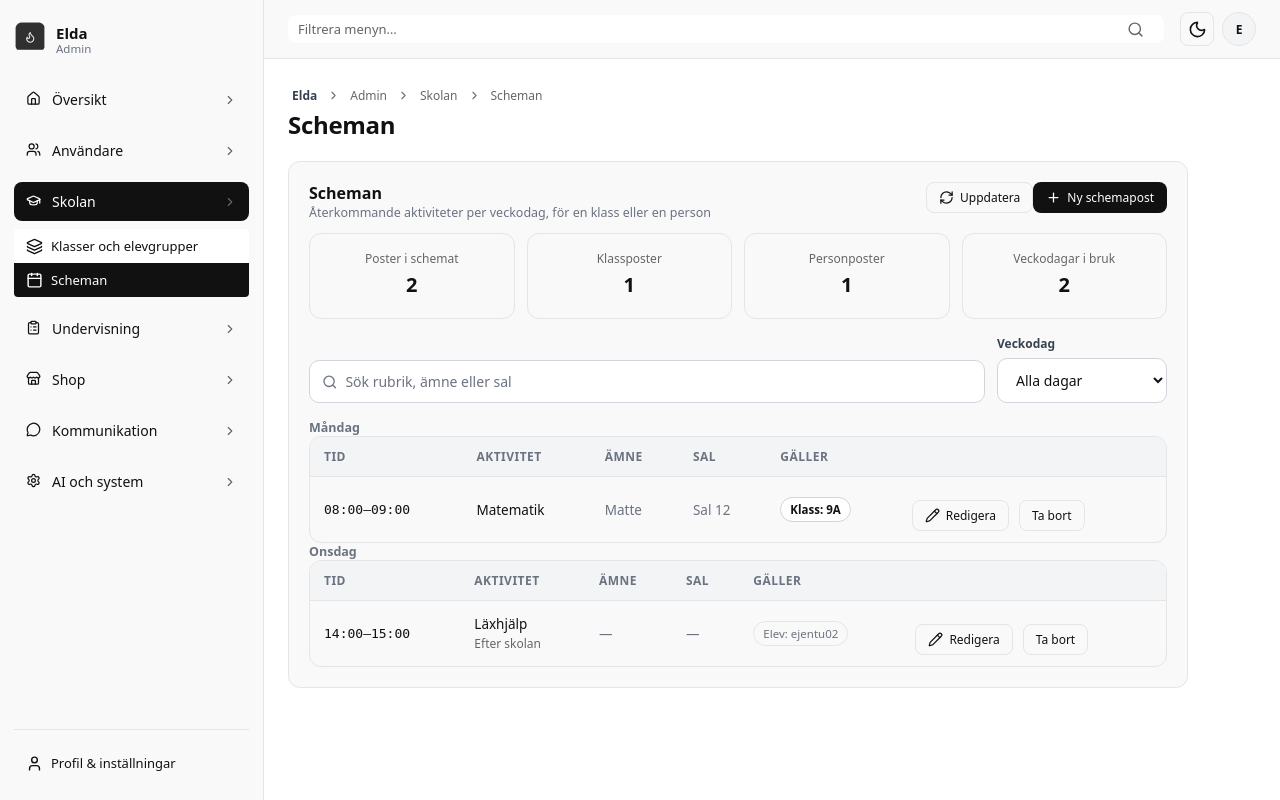
Test case: scheman › visar serverns fel om skapandet misslyckas
Expected: the text "Matematik" is shown, [462, 476, 591, 542]
Click the button "Ny schemapost" at x=1100, y=198, box [1033, 182, 1167, 213]
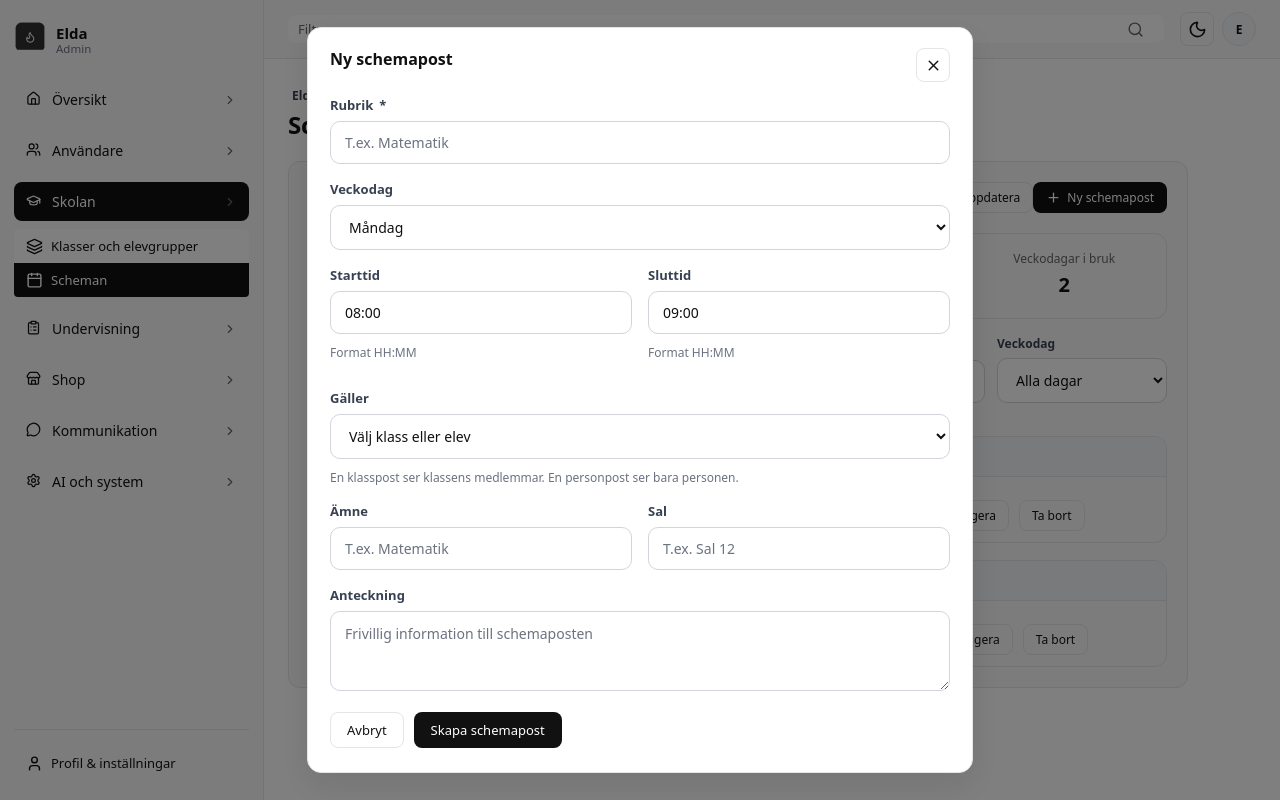
Type "Engelska" into the field labelled "Rubrik *" at x=640, y=142, box [330, 121, 950, 164]
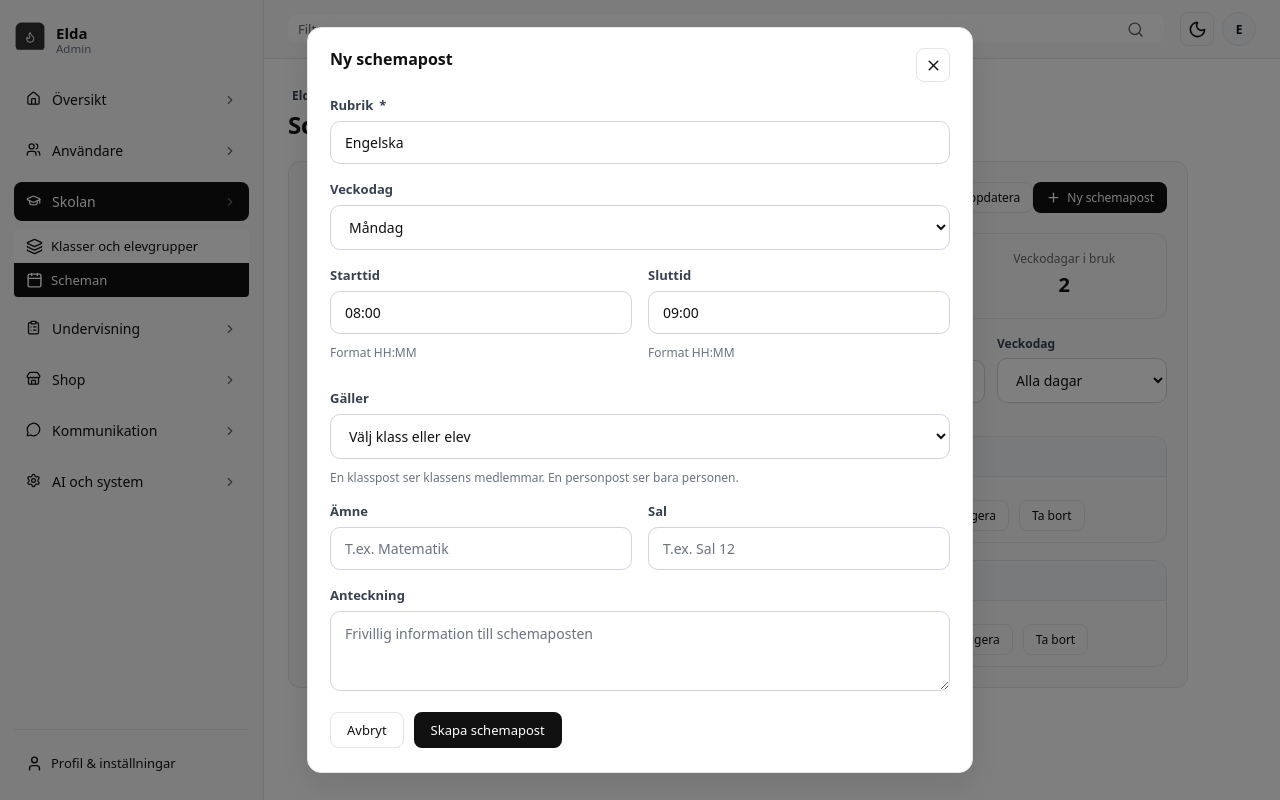
Select "Klass: 9A" in the dropdown labelled "Gäller" at x=640, y=436, box [330, 414, 950, 459]
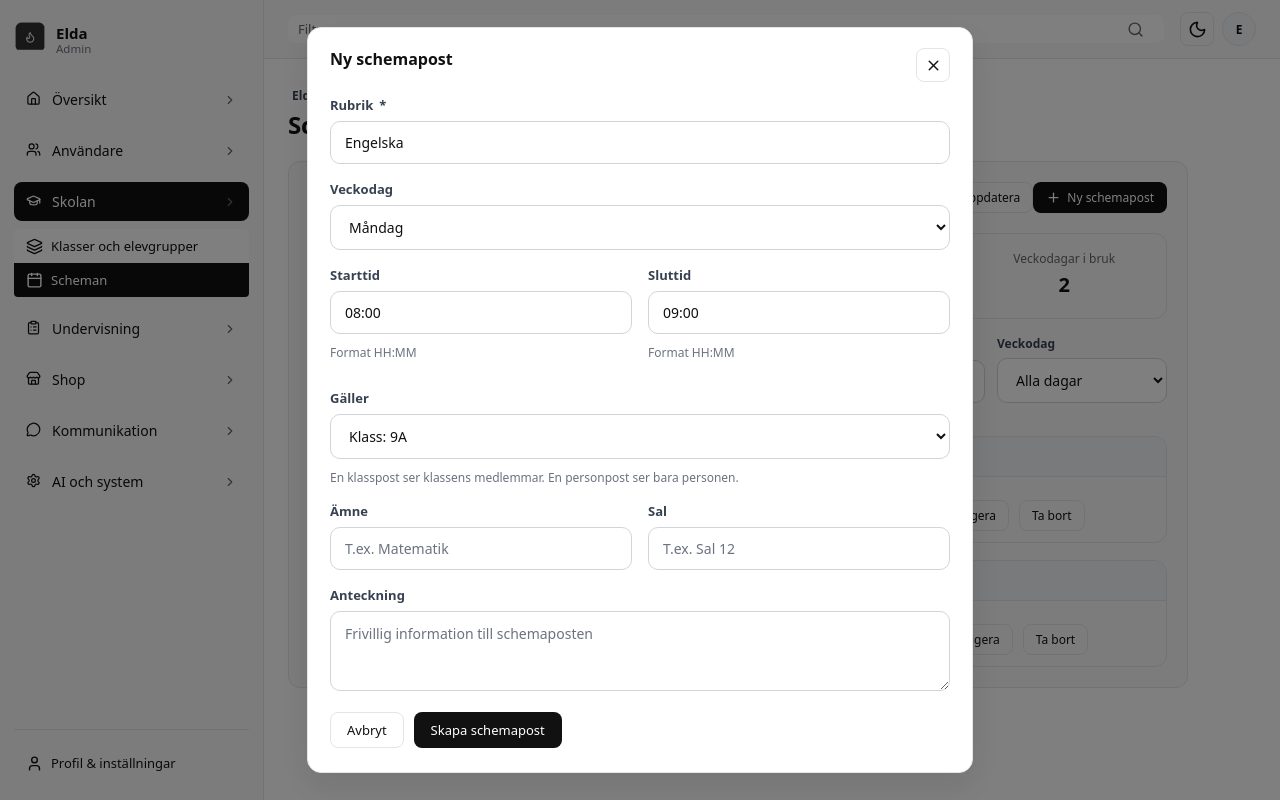
Click the button "Skapa schemapost" at x=488, y=730, box [414, 712, 562, 748]
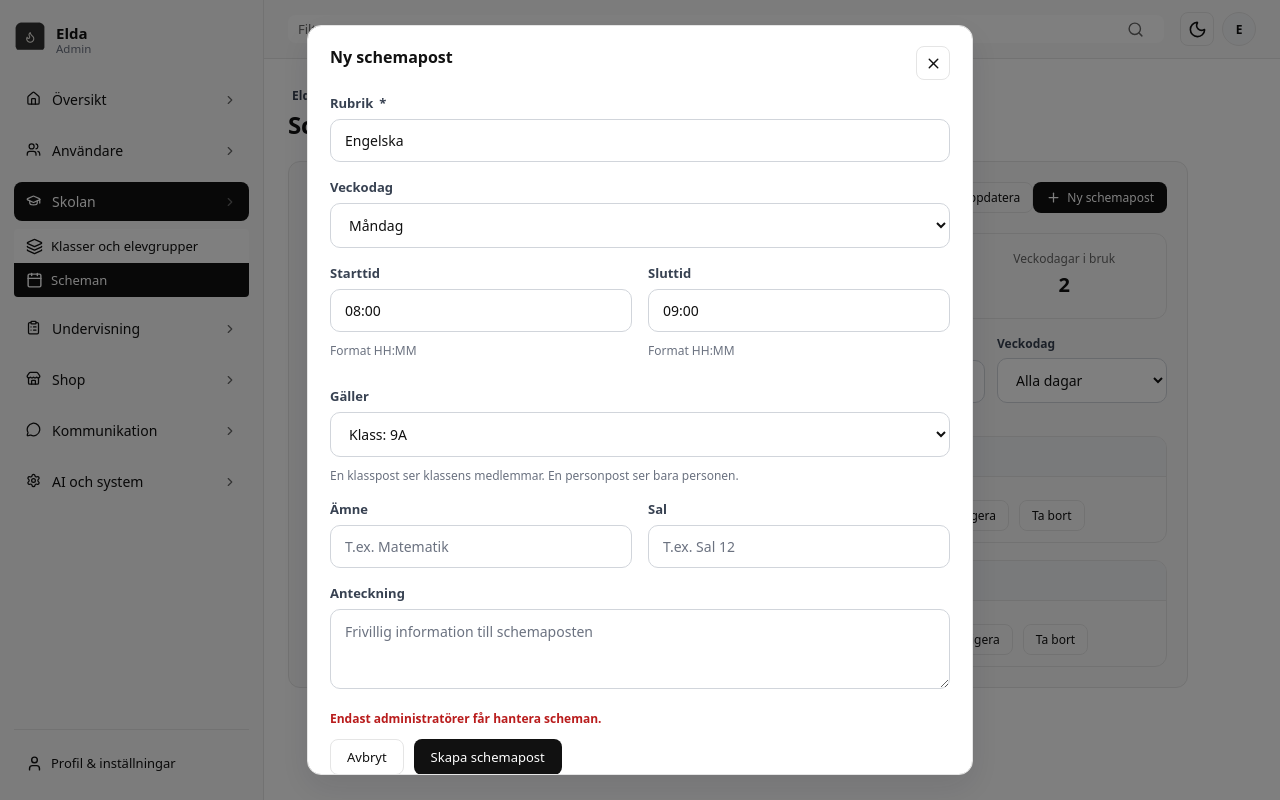
Expected: the message with test id "schedule-error" shows "Endast administratörer", [330, 710, 602, 727]
